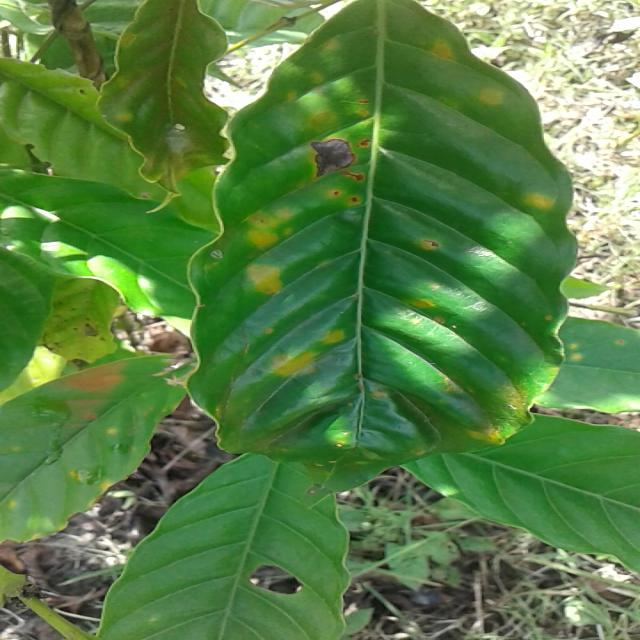Enfermedad-Roya: (185, 0, 578, 494)
